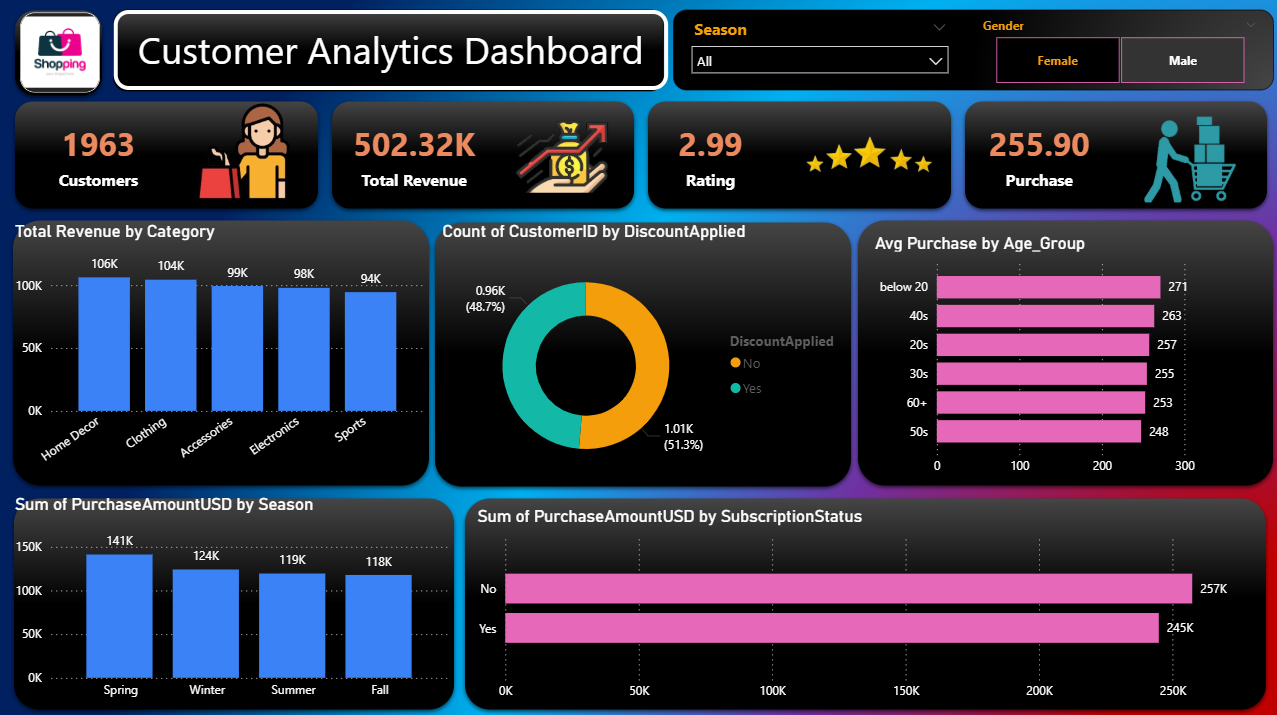

Layout of this report page (visuals, bound fields, positions):
{"tool":"powerbi","page":{"name":"Executive Overview","canvas":[1280,720],"ordinal":0},"visuals":[{"type":"textbox","box":[114.3,10,554.3,80],"z":0},{"type":"image","box":[20,12.9,80,80],"z":1000},{"type":"clusteredColumnChart","fields":{"Category":["Shoping_table_std.Category"],"Y":["Shoping_table_std.Total Revenue"]},"box":[10,221.4,420,262.9],"z":2000},{"type":"card","fields":{"Values":["Shoping_table_std.Total Customers"]},"box":[10,102.9,177.1,105.7],"z":3000},{"type":"image","box":[187.1,102.9,111.4,100],"z":4000},{"type":"card","fields":{"Values":["Shoping_table_std.Total Revenue"]},"box":[328.6,102.9,171.4,105.7],"z":5000},{"type":"image","box":[512.9,108.6,98.6,91.4],"z":6000},{"type":"card","fields":{"Values":["Shoping_table_std.Avg Rating"]},"box":[630,102.9,161.4,105.7],"z":7000},{"type":"image","box":[801.4,108.6,135.7,100],"z":8000},{"type":"card","fields":{"Values":["Shoping_table_std.Avg Purchase"]},"box":[958.6,102.9,161.4,105.7],"z":9000},{"type":"image","box":[1132.9,111.4,114.3,91.4],"z":10000},{"type":"donutChart","fields":{"Category":["Shoping_table_std.DiscountApplied"],"Y":["CountNonNull(Shoping_table_std.CustomerID)"]},"box":[437.1,221.4,417.1,270],"z":11000},{"type":"barChart","fields":{"Y":["Shoping_table_std.Avg Purchase"],"Category":["Shoping_table_std.Age_Group"]},"box":[870,232.9,395.7,251.4],"z":12000},{"type":"columnChart","fields":{"Category":["Shoping_table_std.Season"],"Y":["Sum(Shoping_table_std.PurchaseAmountUSD)"]},"box":[10,494.3,444.3,214.3],"z":13000},{"type":"clusteredBarChart","fields":{"Category":["Shoping_table_std.SubscriptionStatus"],"Y":["Sum(Shoping_table_std.PurchaseAmountUSD)"]},"box":[472.9,505.7,792.9,202.9],"z":14000},{"type":"slicer","fields":{"Values":["Shoping_table_std.Season"]},"box":[681.4,12.9,277.1,80],"z":15000},{"type":"slicer","fields":{"Values":["Shoping_table_std.Gender"]},"box":[970,12.9,298.6,77.1],"z":16000}]}

Visuals, with their boxes in screenshot pixels (x1, y1, x2, y2), scaled from the page's 1280x720 canvas onto the 1277x715 screenshot:
textbox: bbox(114, 10, 667, 89)
image: bbox(20, 13, 100, 92)
clusteredColumnChart - Shoping_table_std.Category x Shoping_table_std.Total Revenue: bbox(10, 220, 429, 481)
card - Shoping_table_std.Total Customers: bbox(10, 102, 187, 207)
image: bbox(187, 102, 298, 201)
card - Shoping_table_std.Total Revenue: bbox(328, 102, 499, 207)
image: bbox(512, 108, 610, 199)
card - Shoping_table_std.Avg Rating: bbox(629, 102, 790, 207)
image: bbox(800, 108, 935, 207)
card - Shoping_table_std.Avg Purchase: bbox(956, 102, 1117, 207)
image: bbox(1130, 111, 1244, 201)
donutChart - Shoping_table_std.DiscountApplied x CountNonNull(Shoping_table_std.CustomerID): bbox(436, 220, 852, 488)
barChart - Shoping_table_std.Avg Purchase x Shoping_table_std.Age_Group: bbox(868, 231, 1263, 481)
columnChart - Shoping_table_std.Season x Sum(Shoping_table_std.PurchaseAmountUSD): bbox(10, 491, 453, 704)
clusteredBarChart - Shoping_table_std.SubscriptionStatus x Sum(Shoping_table_std.PurchaseAmountUSD): bbox(472, 502, 1263, 704)
slicer - Shoping_table_std.Season: bbox(680, 13, 956, 92)
slicer - Shoping_table_std.Gender: bbox(968, 13, 1266, 89)
